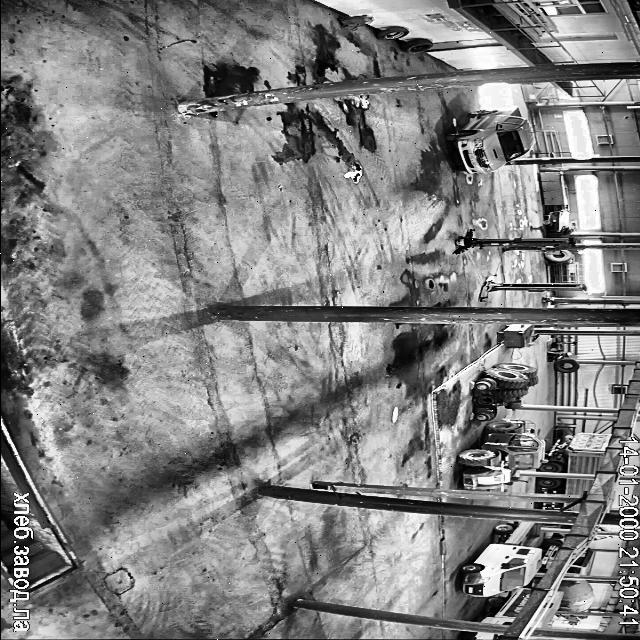class6: (458, 419, 544, 490), (474, 362, 538, 420)
class7: (460, 521, 540, 596), (445, 109, 534, 173), (540, 432, 612, 474), (482, 588, 532, 624), (557, 580, 594, 614), (538, 477, 591, 494), (537, 592, 560, 628), (541, 536, 563, 571), (567, 548, 595, 574), (461, 632, 500, 640), (541, 498, 569, 509), (566, 504, 580, 511), (564, 616, 579, 620)
tractor: (340, 16, 372, 28)
truck: (454, 229, 574, 253), (479, 275, 586, 300)
